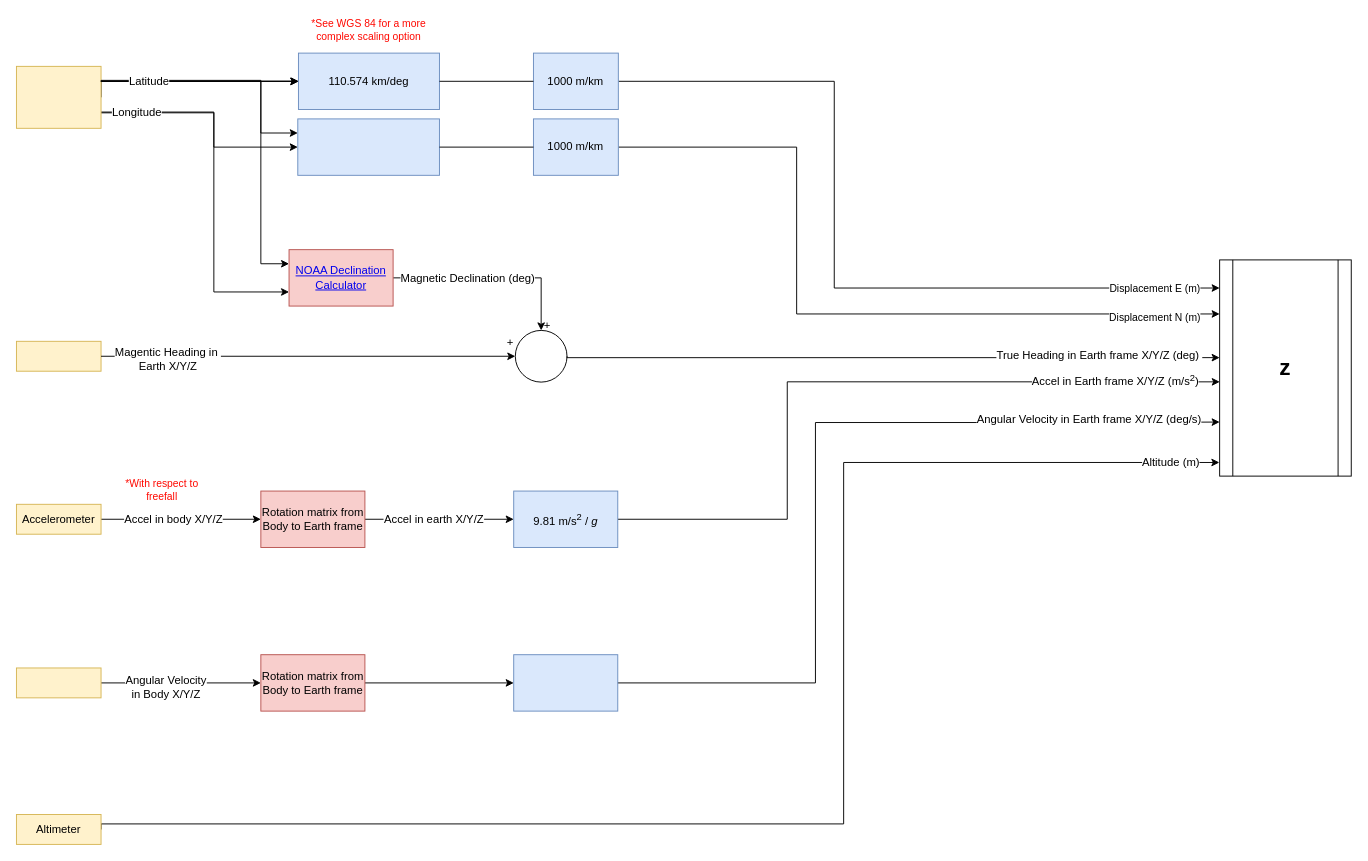
Some shapes in this 1368 by 861 pixel diagram are drawn without their labels. The shapes that lost their labels are listed below. From the top down, each one's centre as x and y in pixels, then its label:
(58,96): GPS
(368,146): 111.320km/deg *cos(latitude)
(58,355): Magnetometer
(58,682): Gyroscope
(565,682): 1000 mdps/dps
